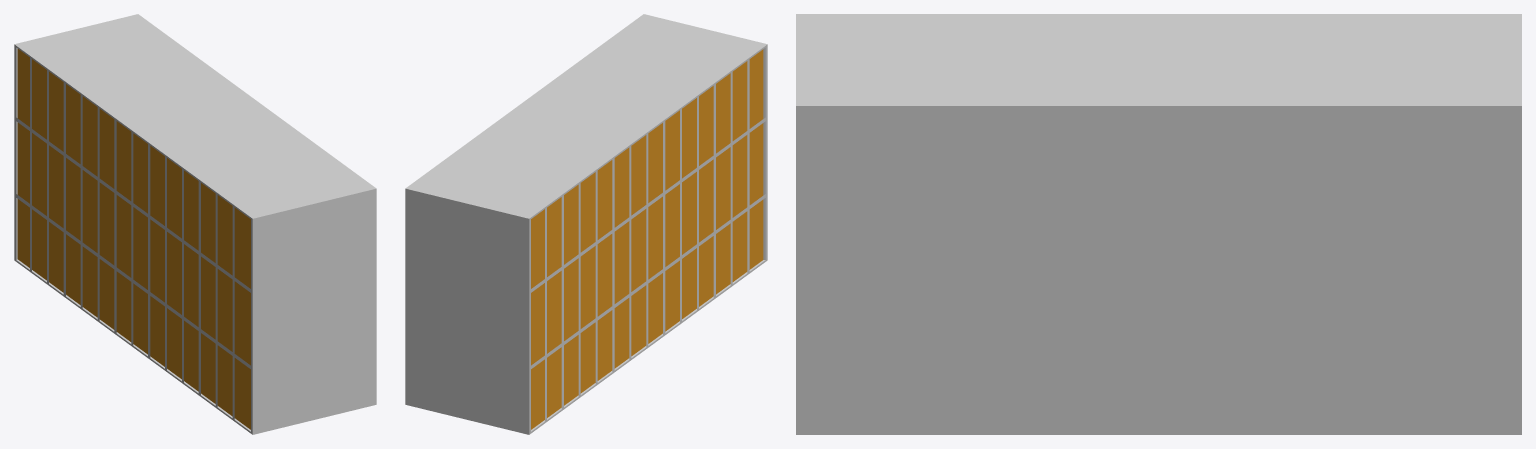
Rendered from Buildings-base5.fbx.
3 views of the same model, side by side, from view 1: azimuth 30°, elevation 25°; view 2: azimuth 150°, elevation 25°; view 3: azimuth 270°, elevation 25° (orthographic). The views are drawn at different scales.
Visible parts, largest first — view 1: Cube.001; view 2: Cube.001; view 3: Cube.001.
Part boxes in pixels (x1,y1,x2,y2): Cube.001: (14,14,376,434); Cube.001: (405,14,767,434); Cube.001: (796,14,1521,434).
Size of the model in its own units: 30 by 50 by 100.
